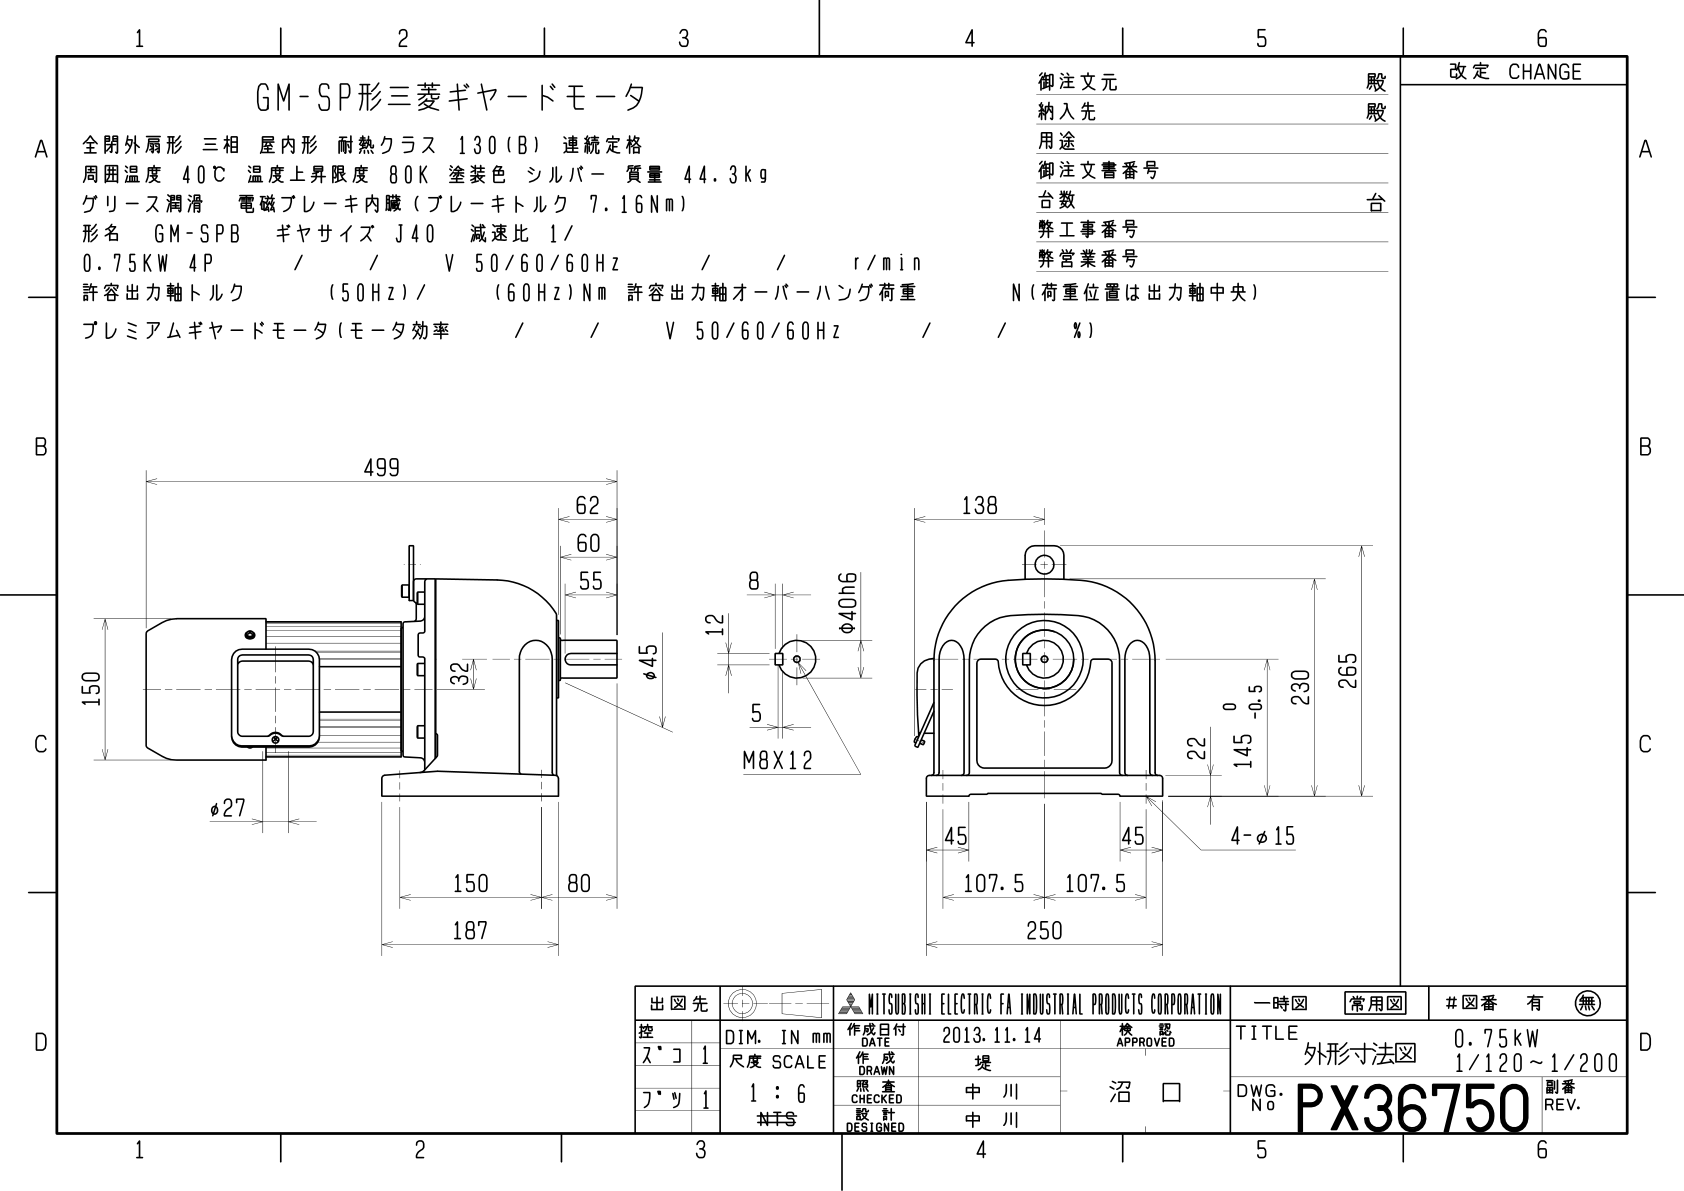GM_SP_屋内_三相_脚: (9, 5, 1684, 1176)
